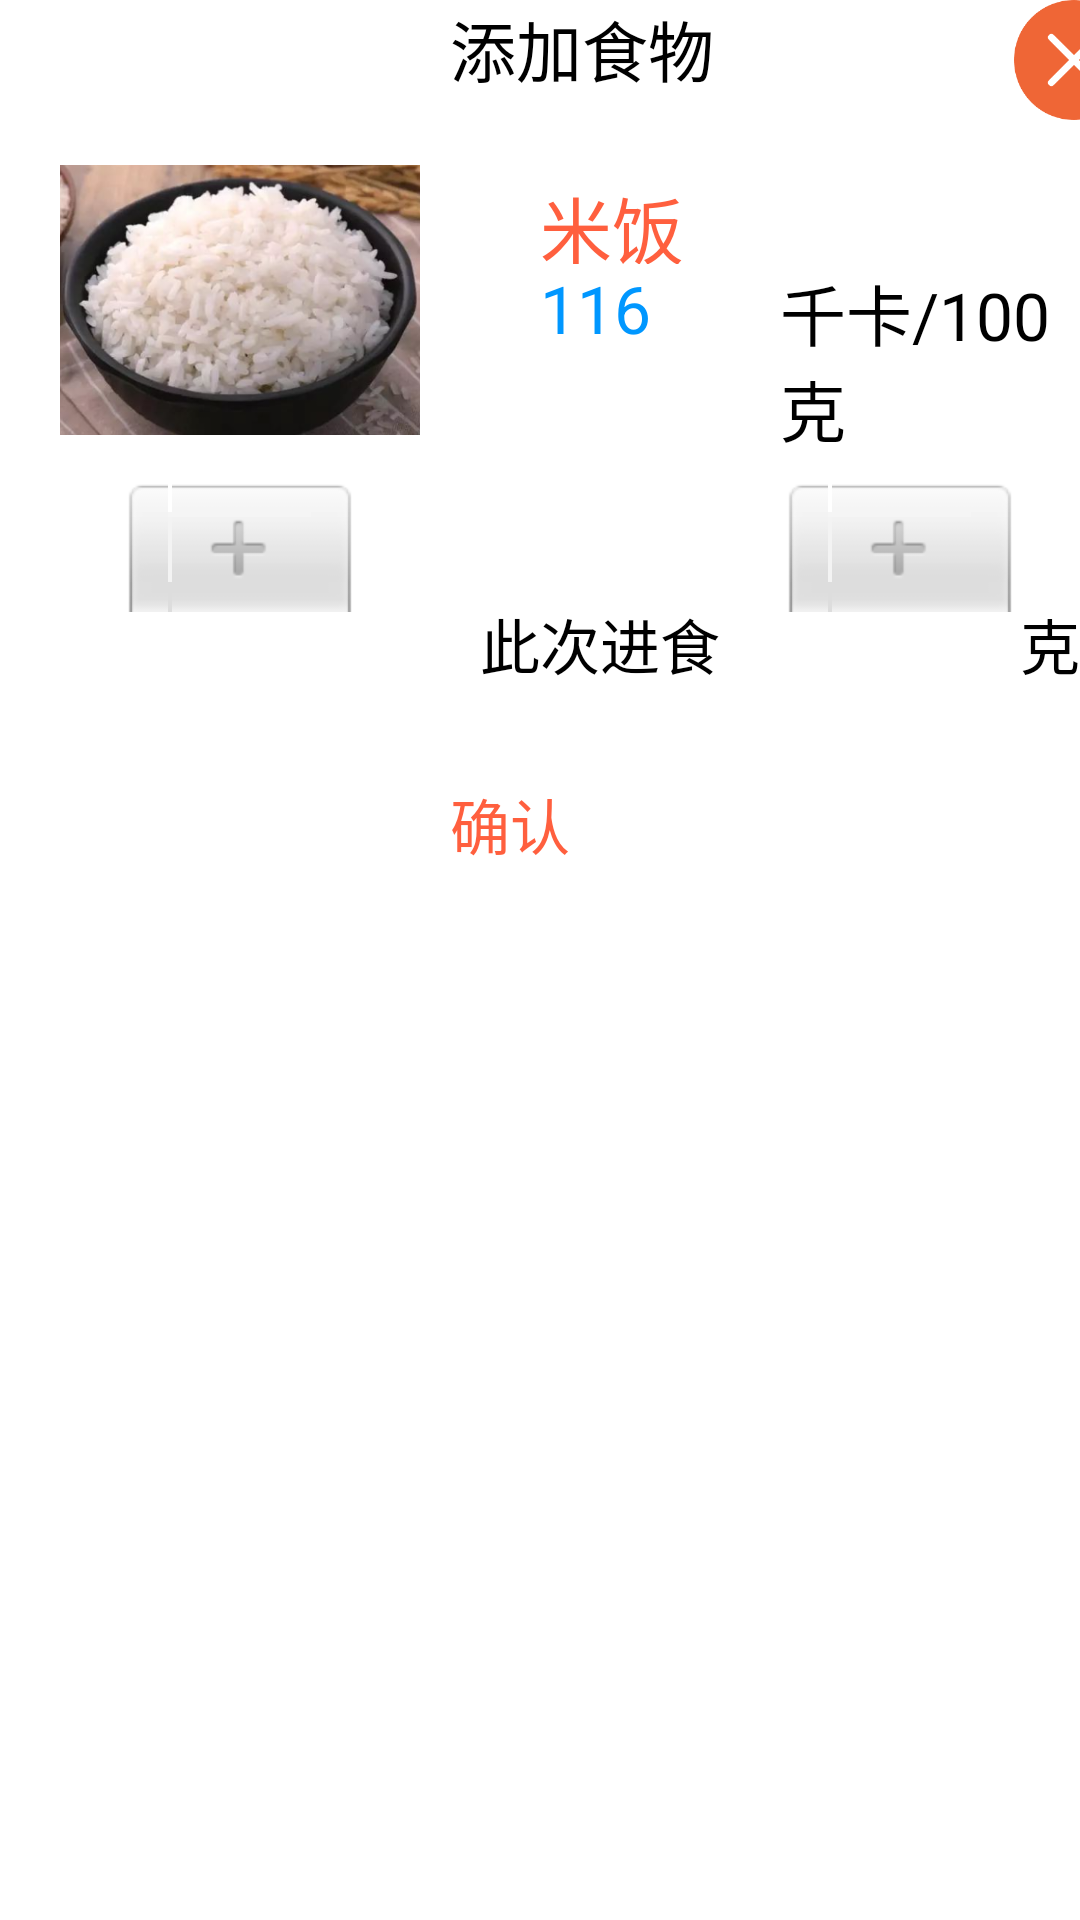

Locate icon controls on the screen. Image size 1080×1920, boxes as (x1, y1, x2, y2).
food: (60, 165, 420, 435)
